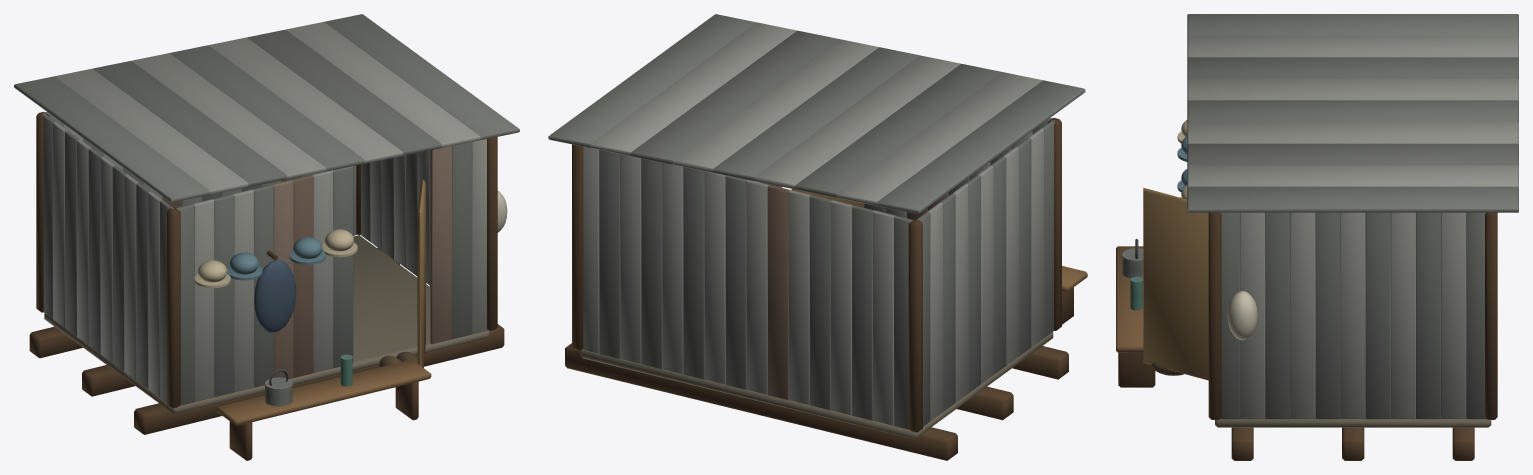
File: change_house_a.glb
3 renders of one model, left to right at view 1: azimuth 30°, elevation 25°; view 2: azimuth 150°, elevation 25°; view 3: azimuth 270°, elevation 25°, orthographic. The views are drawn at different scales.
Visible parts, largest first — view 1: Surface; view 2: Surface; view 3: Surface.
Part boxes in pixels (left/top/right/bottom): Surface: left=14, top=14, right=519, bottom=460; Surface: left=548, top=14, right=1087, bottom=460; Surface: left=1116, top=14, right=1518, bottom=460.
Size of the model in its own units: 4.87 by 3.18 by 4.38.
